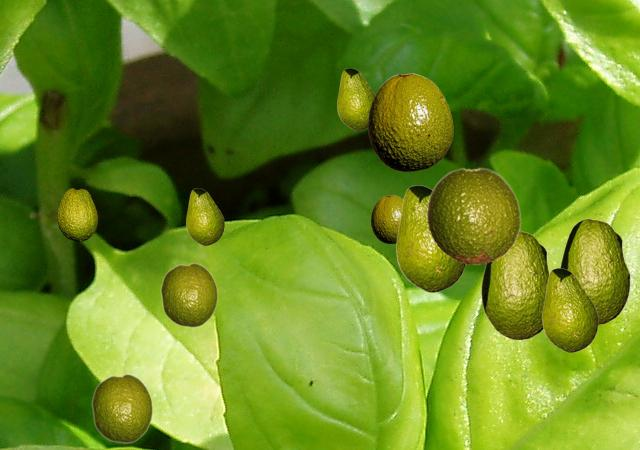avocado: (426, 167, 521, 264), (368, 73, 452, 170), (396, 185, 466, 291), (559, 218, 629, 324), (481, 230, 549, 339), (542, 268, 597, 351), (91, 373, 152, 443), (160, 262, 217, 327), (337, 68, 374, 129), (186, 188, 223, 244), (57, 188, 96, 240), (371, 195, 402, 242)
